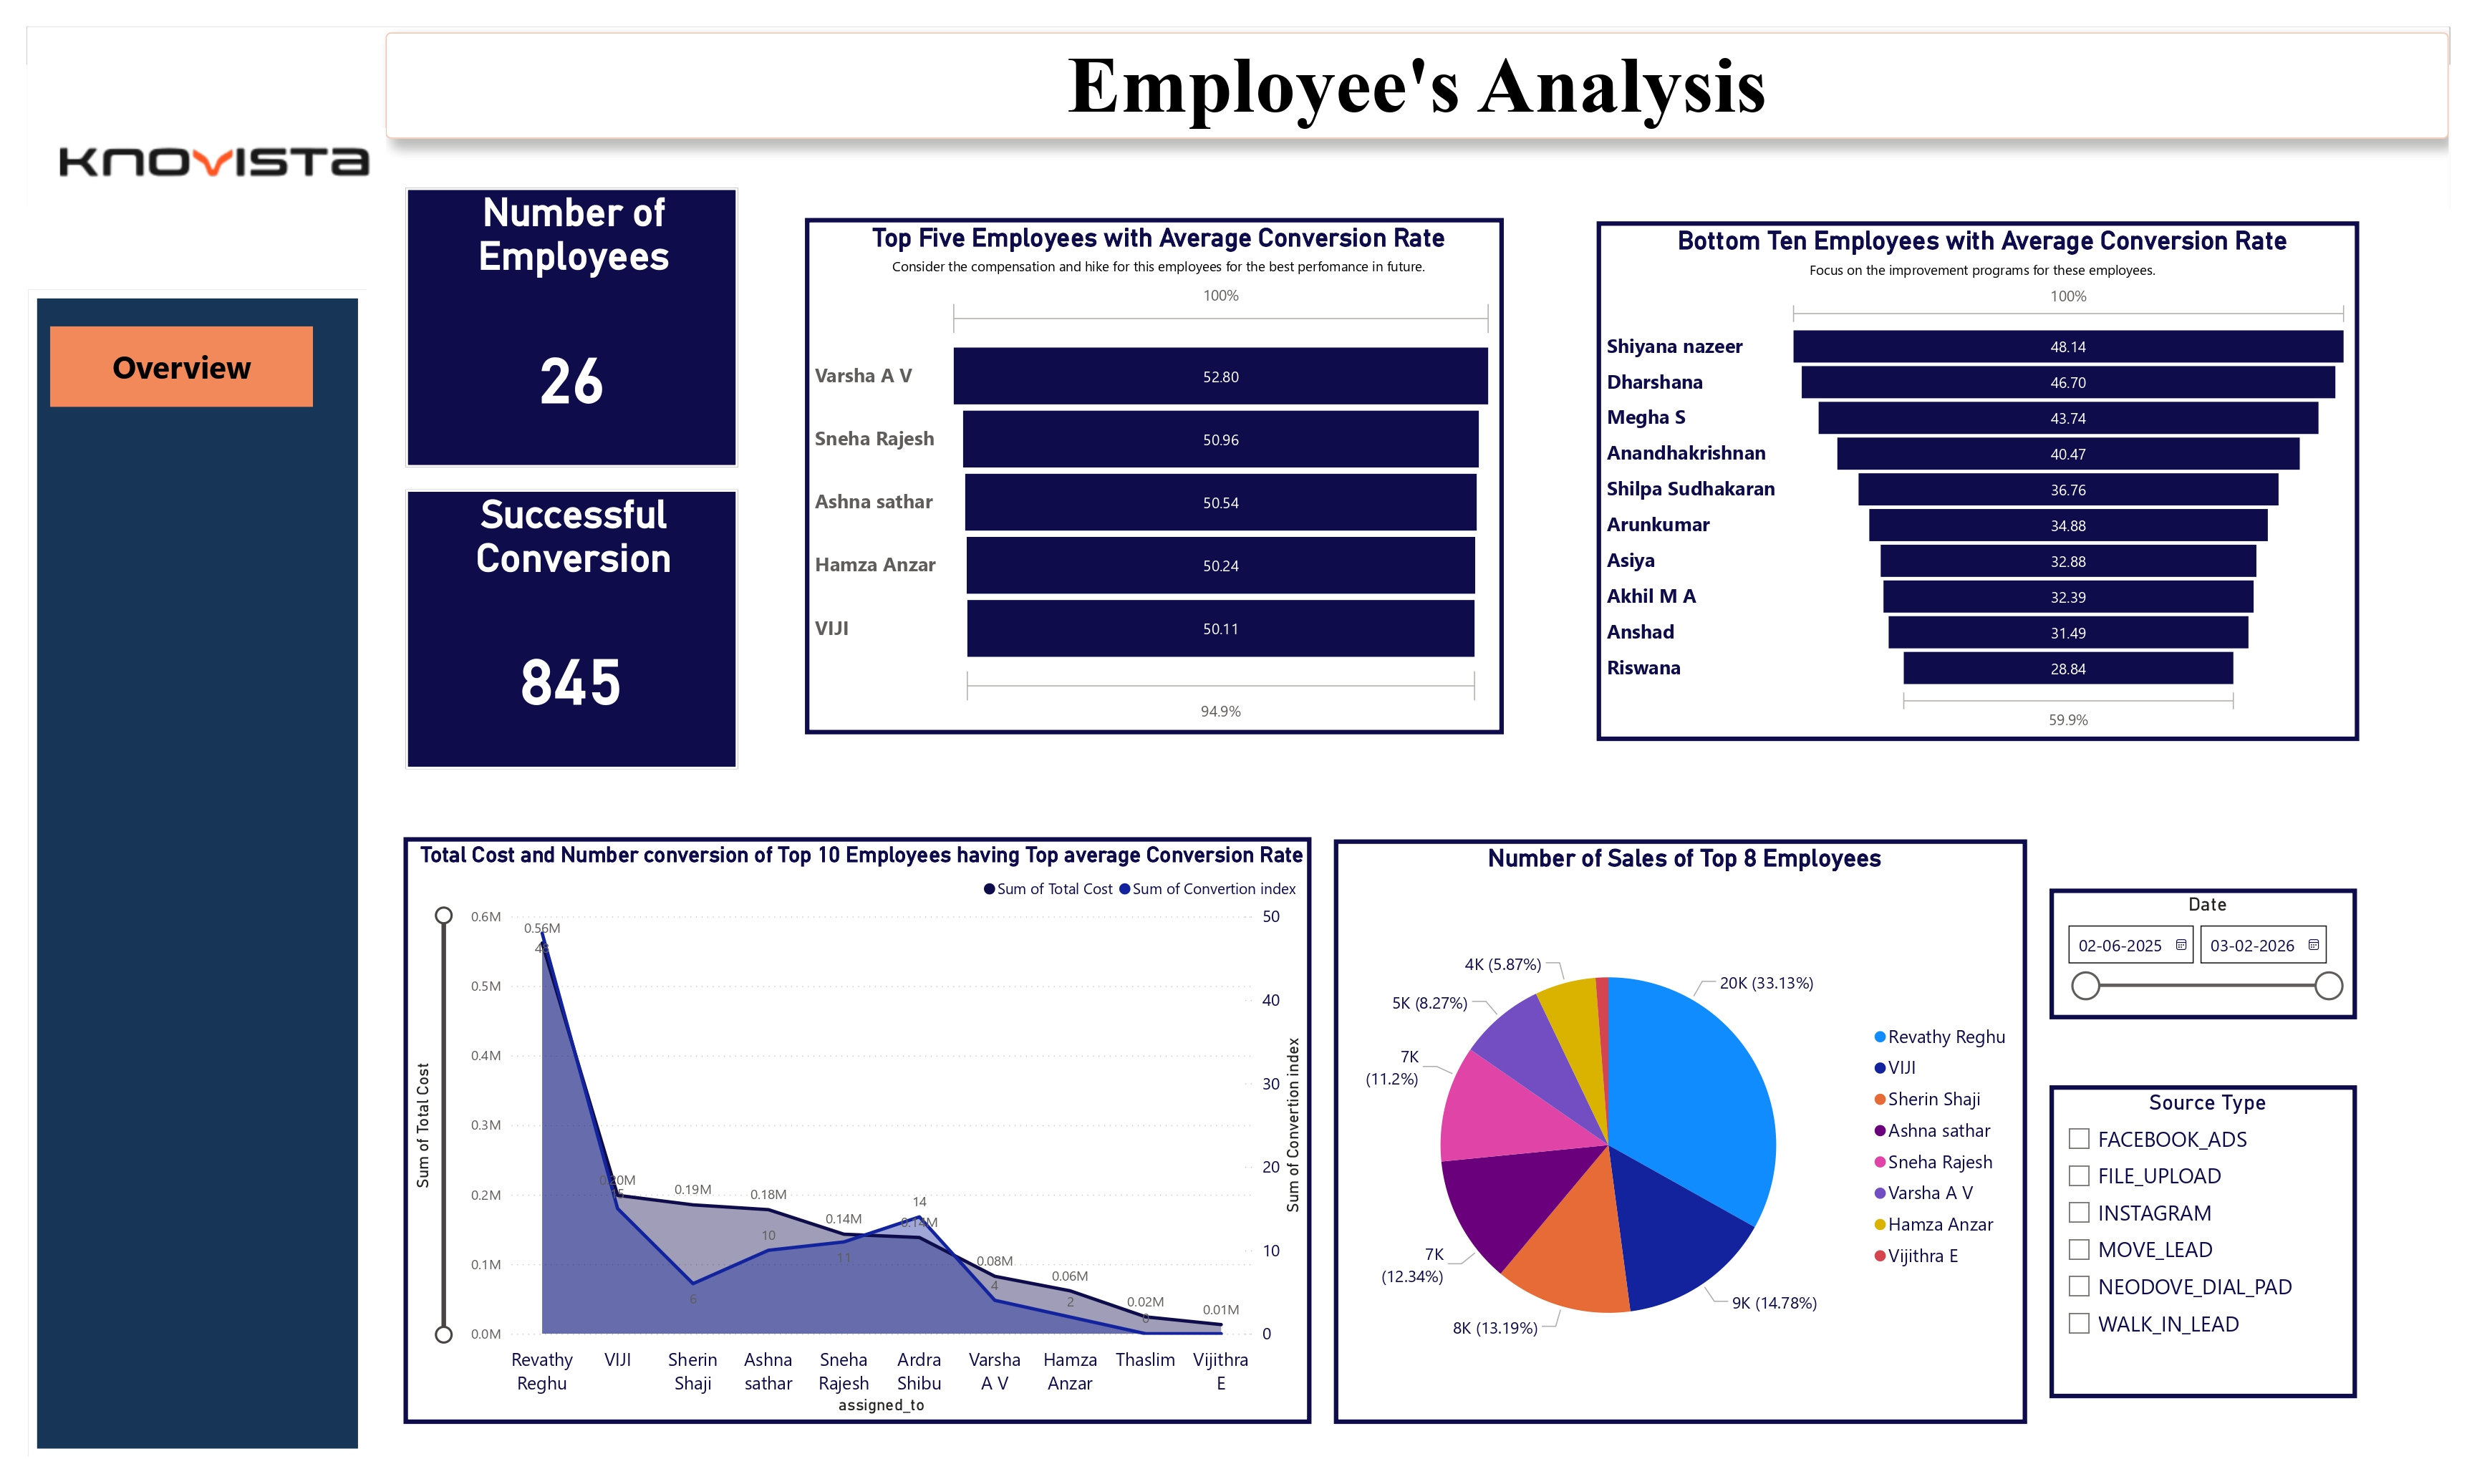

The page's visual inventory and layout, read from the dashboard file:
{"tool":"powerbi","page":{"name":"Employees Analysis","canvas":[2165,1279],"ordinal":1},"visuals":[{"type":"textbox","box":[320,5,1845,95],"z":0},{"type":"shape","box":[0,235,302.5,1045],"z":1000},{"type":"funnel","title":"Top Five Employees with Average Conversion Rate","fields":{"Category":["knovist_technologies_conversion_and_sales_data_modified.assigned_to"],"Y":["Avg(knovist_technologies_conversion_and_sales_data_modified.Conversion Rate (%))"]},"box":[695.4,170.8,625,462.5],"z":2000},{"type":"funnel","title":"Bottom Ten Employees with Average Conversion Rate","fields":{"Category":["knovist_technologies_conversion_and_sales_data_modified.assigned_to"],"Y":["Avg(knovist_technologies_conversion_and_sales_data_modified.Conversion Rate (%))"]},"box":[1402.9,173.7,682.5,465],"z":3000},{"type":"card","title":"Number of Employees","fields":{"Values":["Count(knovist_technologies_conversion_and_sales_data_modified.assigned_to)"]},"box":[337.9,143.7,297.5,250],"z":4000},{"type":"card","title":"Successful  Conversion","fields":{"Values":["Sum(knovist_technologies_conversion_and_sales_data_modified.Convertion index)"]},"box":[337.9,413.7,297.5,250],"z":5000},{"type":"areaChart","title":"Total Cost and Number conversion of Top 10 Employees having Top average Conversion Rate","fields":{"Category":["knovist_technologies_conversion_and_sales_data_modified.assigned_to"],"Y":["Sum(knovist_technologies_conversion_and_sales_data_modified.Total Cost)"],"Y2":["Sum(knovist_technologies_conversion_and_sales_data_modified.Convertion index)"]},"box":[335.9,724.8,812.5,525],"z":6000},{"type":"pieChart","title":"Number of Sales of Top 8 Employees","fields":{"Category":["knovist_technologies_conversion_and_sales_data_modified.assigned_to"],"Y":["Sum(knovist_technologies_conversion_and_sales_data_modified.Sales)"]},"box":[1168.4,727.3,620,522.5],"z":7000},{"type":"slicer","title":"Date","fields":{"Values":["knovist_technologies_conversion_and_sales_data_modified.creation_date"]},"box":[1807.5,771.5,275,116.7],"z":8000},{"type":"slicer","title":"Source Type","fields":{"Values":["knovist_technologies_conversion_and_sales_data_modified.source_type"]},"box":[1808.4,947.3,275,280],"z":9000},{"type":"actionButton","box":[20,267.5,235,72.5],"z":11000},{"type":"image","box":[15,0,305,235],"z":12000}]}

Visuals, with their boxes on the page's 2165x1279 design canvas (x1, y1, x2, y2). These are canvas units, not pixel positions in the 2477x1484 screenshot, which may show the page scaled, cropped or inside an application window:
textbox: {"left": 320, "top": 5, "right": 2165, "bottom": 100}
shape: {"left": 0, "top": 235, "right": 302, "bottom": 1280}
"Top Five Employees with Average Conversion Rate" funnel: {"left": 695, "top": 171, "right": 1320, "bottom": 633}
"Bottom Ten Employees with Average Conversion Rate" funnel: {"left": 1403, "top": 174, "right": 2085, "bottom": 639}
"Number of Employees" card: {"left": 338, "top": 144, "right": 635, "bottom": 394}
"Successful  Conversion" card: {"left": 338, "top": 414, "right": 635, "bottom": 664}
"Total Cost and Number conversion of Top 10 Employees having Top average Conversion Rate" areaChart: {"left": 336, "top": 725, "right": 1148, "bottom": 1250}
"Number of Sales of Top 8 Employees" pieChart: {"left": 1168, "top": 727, "right": 1788, "bottom": 1250}
"Date" slicer: {"left": 1808, "top": 772, "right": 2082, "bottom": 888}
"Source Type" slicer: {"left": 1808, "top": 947, "right": 2083, "bottom": 1227}
actionButton: {"left": 20, "top": 268, "right": 255, "bottom": 340}
image: {"left": 15, "top": 0, "right": 320, "bottom": 235}
